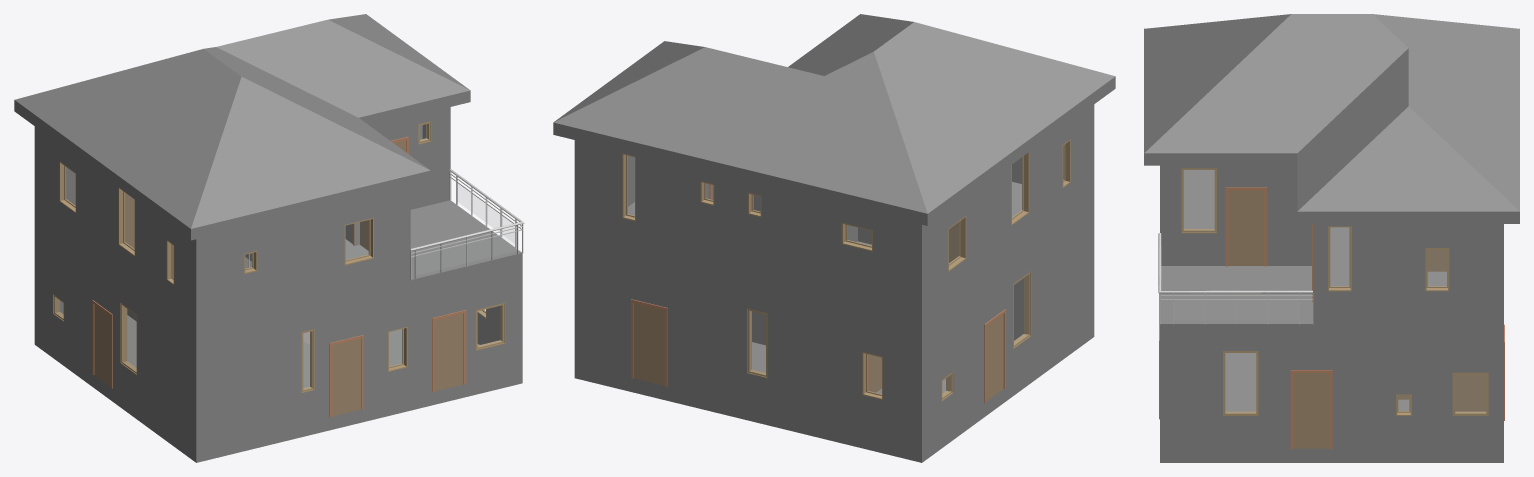
Rendered from new-ptitemaison-architectural-1.glb.
3 renders of one model, left to right at view 1: azimuth 30°, elevation 25°; view 2: azimuth 150°, elevation 25°; view 3: azimuth 270°, elevation 25°, orthographic. The views are drawn at different scales.
Parts seen in each view (by area): view 1: 1nl5LFRlzEOeV7SLE8d5I_, 1nl5LFRlzEOeV7SLA8d5I_, 1CSFN9hRr2kAIM8KMVrtTi, 3cxWgFgaL1beLScRuvDa84, 1nl5LFRlzEOeV7SL28d5I_, 3CwFYpVNH0$vihX6hLbIwW, 2RUaXBzRD6eunOCU9NxJ1G, 2RUaXBzRD6eunOCU9NxJFd, 3CwFYpVNH0$vihX6hLbKLO, 3cxWgFgaL1beLScRuvDay9, 3cxWgFgaL1beLScRuvDaCU, 1CSFN9hRr2kAIM8KMVrtVx (+17 smaller); view 2: 1nl5LFRlzEOeV7SLQ8d5I_, 1nl5LFRlzEOeV7SLE8d5I_, 3cxWgFgaL1beLScRuvDax7, 3cxWgFgaL1beLScRuvDaa9, 3cxWgFgaL1beLScRuvDaw4, 3cxWgFgaL1beLScRuvDajH, 2RUaXBzRD6eunOCU9NxJ1G, 1CSFN9hRr2kAIM8KMVrtP4, 3cxWgFgaL1beLScRuvDay9, 3CwFYpVNH0$vihX6hLbKLO, 3CwFYpVNH0$vihX6hLbIwW, 1CSFN9hRr2kAIM8KMVrtVx (+16 smaller); view 3: 1nl5LFRlzEOeV7SL68d5I_, 3CwFYpVNH0$vihX6hLbIwW, 2RUaXBzRD6eunOCU9NxJEO, 1nl5LFRlzEOeV7SLQ8d5I_, 1nl5LFRlzEOeV7SLU8d5I_, 3cxWgFgaL1beLScRuvDaoZ, 1nl5LFRlzEOeV7SLA8d5I_, 1CSFN9hRr2kAIM8KMVrtkt, 3cxWgFgaL1beLScRuvDa6e, 3CwFYpVNH0$vihX6hLbKLO, 1nl5LFRlzEOeV7SL28d5I_, 3cxWgFgaL1beLScRuvDaKG (+15 smaller).
Boxes of the visible parts, left/top/right/bottom form: 1nl5LFRlzEOeV7SLE8d5I_: left=14, top=49, right=241, bottom=240; 1nl5LFRlzEOeV7SLA8d5I_: left=191, top=77, right=430, bottom=240; 1CSFN9hRr2kAIM8KMVrtTi: left=202, top=187, right=410, bottom=330; 3cxWgFgaL1beLScRuvDa84: left=286, top=266, right=522, bottom=427; 1nl5LFRlzEOeV7SL28d5I_: left=216, top=19, right=470, bottom=126; 3CwFYpVNH0$vihX6hLbIwW: left=34, top=200, right=522, bottom=345; 2RUaXBzRD6eunOCU9NxJ1G: left=38, top=230, right=147, bottom=413; 2RUaXBzRD6eunOCU9NxJFd: left=202, top=324, right=285, bottom=447; 3CwFYpVNH0$vihX6hLbKLO: left=34, top=315, right=522, bottom=462; 3cxWgFgaL1beLScRuvDay9: left=101, top=175, right=202, bottom=332; 3cxWgFgaL1beLScRuvDaCU: left=147, top=310, right=202, bottom=449; 1CSFN9hRr2kAIM8KMVrtVx: left=34, top=126, right=100, bottom=262; 1nl5LFRlzEOeV7SLQ8d5I_: left=553, top=47, right=927, bottom=225; 1nl5LFRlzEOeV7SLE8d5I_: left=874, top=22, right=1115, bottom=225; 3cxWgFgaL1beLScRuvDax7: left=697, top=283, right=826, bottom=425; 3cxWgFgaL1beLScRuvDaa9: left=786, top=191, right=915, bottom=322; 3cxWgFgaL1beLScRuvDaw4: left=826, top=315, right=925, bottom=448; 3cxWgFgaL1beLScRuvDajH: left=680, top=166, right=785, bottom=290; 2RUaXBzRD6eunOCU9NxJ1G: left=926, top=251, right=1041, bottom=445; 1CSFN9hRr2kAIM8KMVrtP4: left=581, top=142, right=680, bottom=264; 3cxWgFgaL1beLScRuvDay9: left=992, top=104, right=1094, bottom=271; 3CwFYpVNH0$vihX6hLbKLO: left=574, top=323, right=1094, bottom=462; 3CwFYpVNH0$vihX6hLbIwW: left=574, top=182, right=1094, bottom=337; 1CSFN9hRr2kAIM8KMVrtVx: left=915, top=179, right=992, bottom=323; 1nl5LFRlzEOeV7SL68d5I_: left=1144, top=14, right=1408, bottom=165; 3CwFYpVNH0$vihX6hLbIwW: left=1160, top=170, right=1503, bottom=338; 2RUaXBzRD6eunOCU9NxJEO: left=1167, top=338, right=1366, bottom=448; 1nl5LFRlzEOeV7SLQ8d5I_: left=1373, top=14, right=1519, bottom=211; 1nl5LFRlzEOeV7SLU8d5I_: left=1297, top=106, right=1519, bottom=223; 3cxWgFgaL1beLScRuvDaoZ: left=1362, top=224, right=1503, bottom=323; 1nl5LFRlzEOeV7SLA8d5I_: left=1144, top=14, right=1290, bottom=152; 1CSFN9hRr2kAIM8KMVrtkt: left=1167, top=165, right=1311, bottom=265; 3cxWgFgaL1beLScRuvDa6e: left=1366, top=338, right=1441, bottom=448; 3CwFYpVNH0$vihX6hLbKLO: left=1160, top=353, right=1503, bottom=462; 1nl5LFRlzEOeV7SL28d5I_: left=1297, top=48, right=1408, bottom=210; 3cxWgFgaL1beLScRuvDaKG: left=1441, top=338, right=1496, bottom=448.
Size of the model in its own units: 11 by 9.41 by 9.56.
